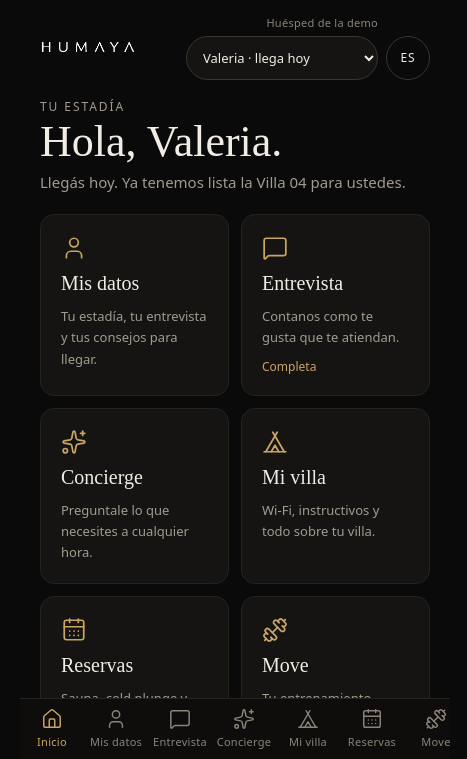
Test: idioma de la app del huésped › traduce las respuestas mock existentes del concierge sin perder el hilo
expect the heading "Hola, Valeria." is shown: met, box [40,117,282,166]
Click the button with aria-label "Cambiar idioma a inglés" at (408, 58), box [386,36,430,80]
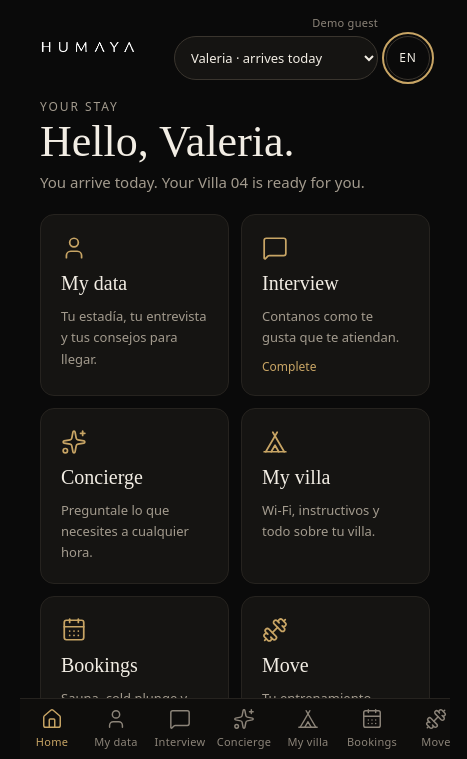
Click the link "Concierge" at (244, 729), box [212,699,276,758]
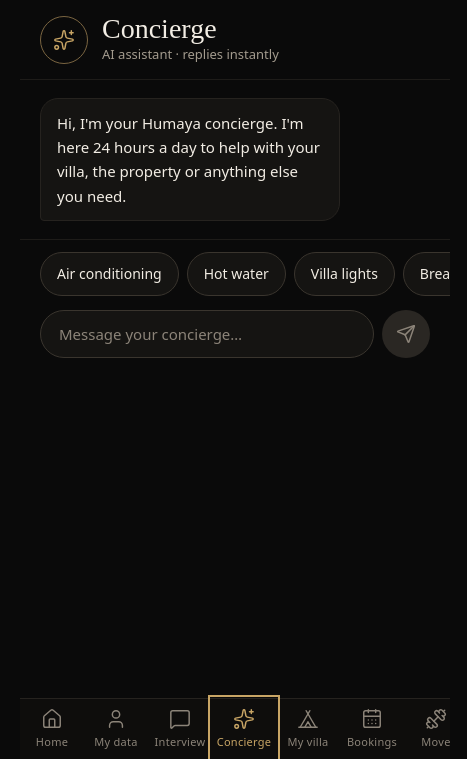
expect the text "I'm your Humaya concierge" is shown: met, box [57,112,320,206]
Click the button "Hot water" at (236, 274), box [187,252,286,296]
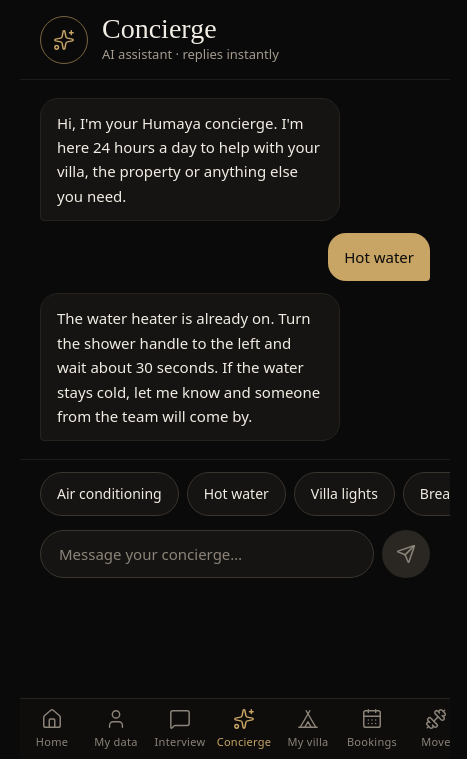
expect the text "The water heater is already on" is shown: met, box [57,308,320,426]
expect the text "Hot water" is shown 2 times: met, box [328,233,430,281]; [187,472,286,516]
Click the link "Home" at (52, 728), box [36,708,68,749]
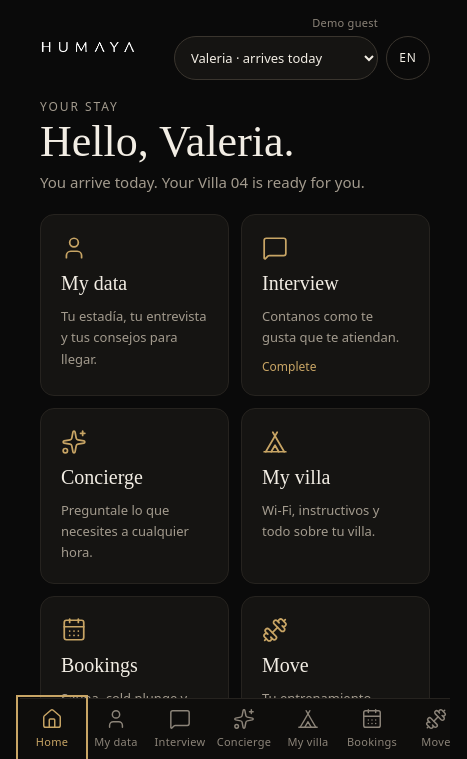
expect the heading "Hello, Valeria." is shown: met, box [40,117,294,166]
Click the button with aria-label "Switch language to Spanish" at (408, 58), box [386,36,430,80]
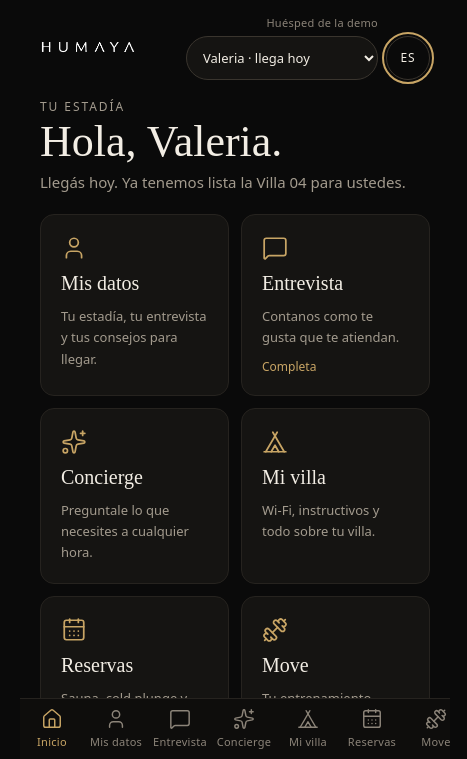
Click the link "Concierge" at (244, 729), box [212,699,276,758]
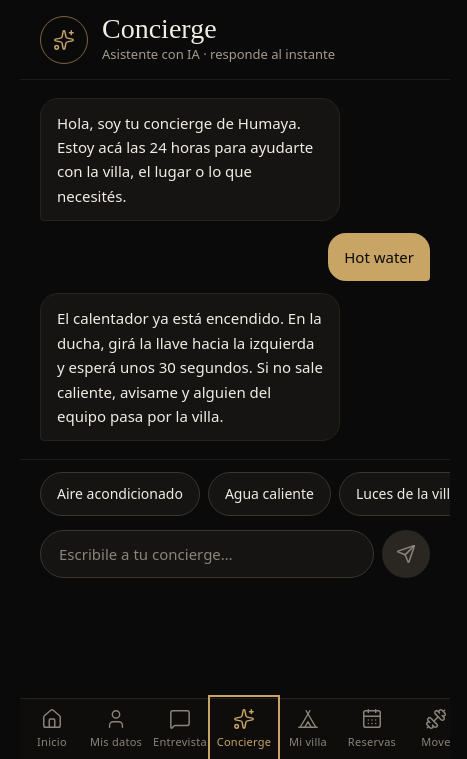
expect the text "El calentador ya está encendido" is shown: met, box [57,308,323,426]
expect the text "Hot water" is shown: met, box [328,233,430,281]
